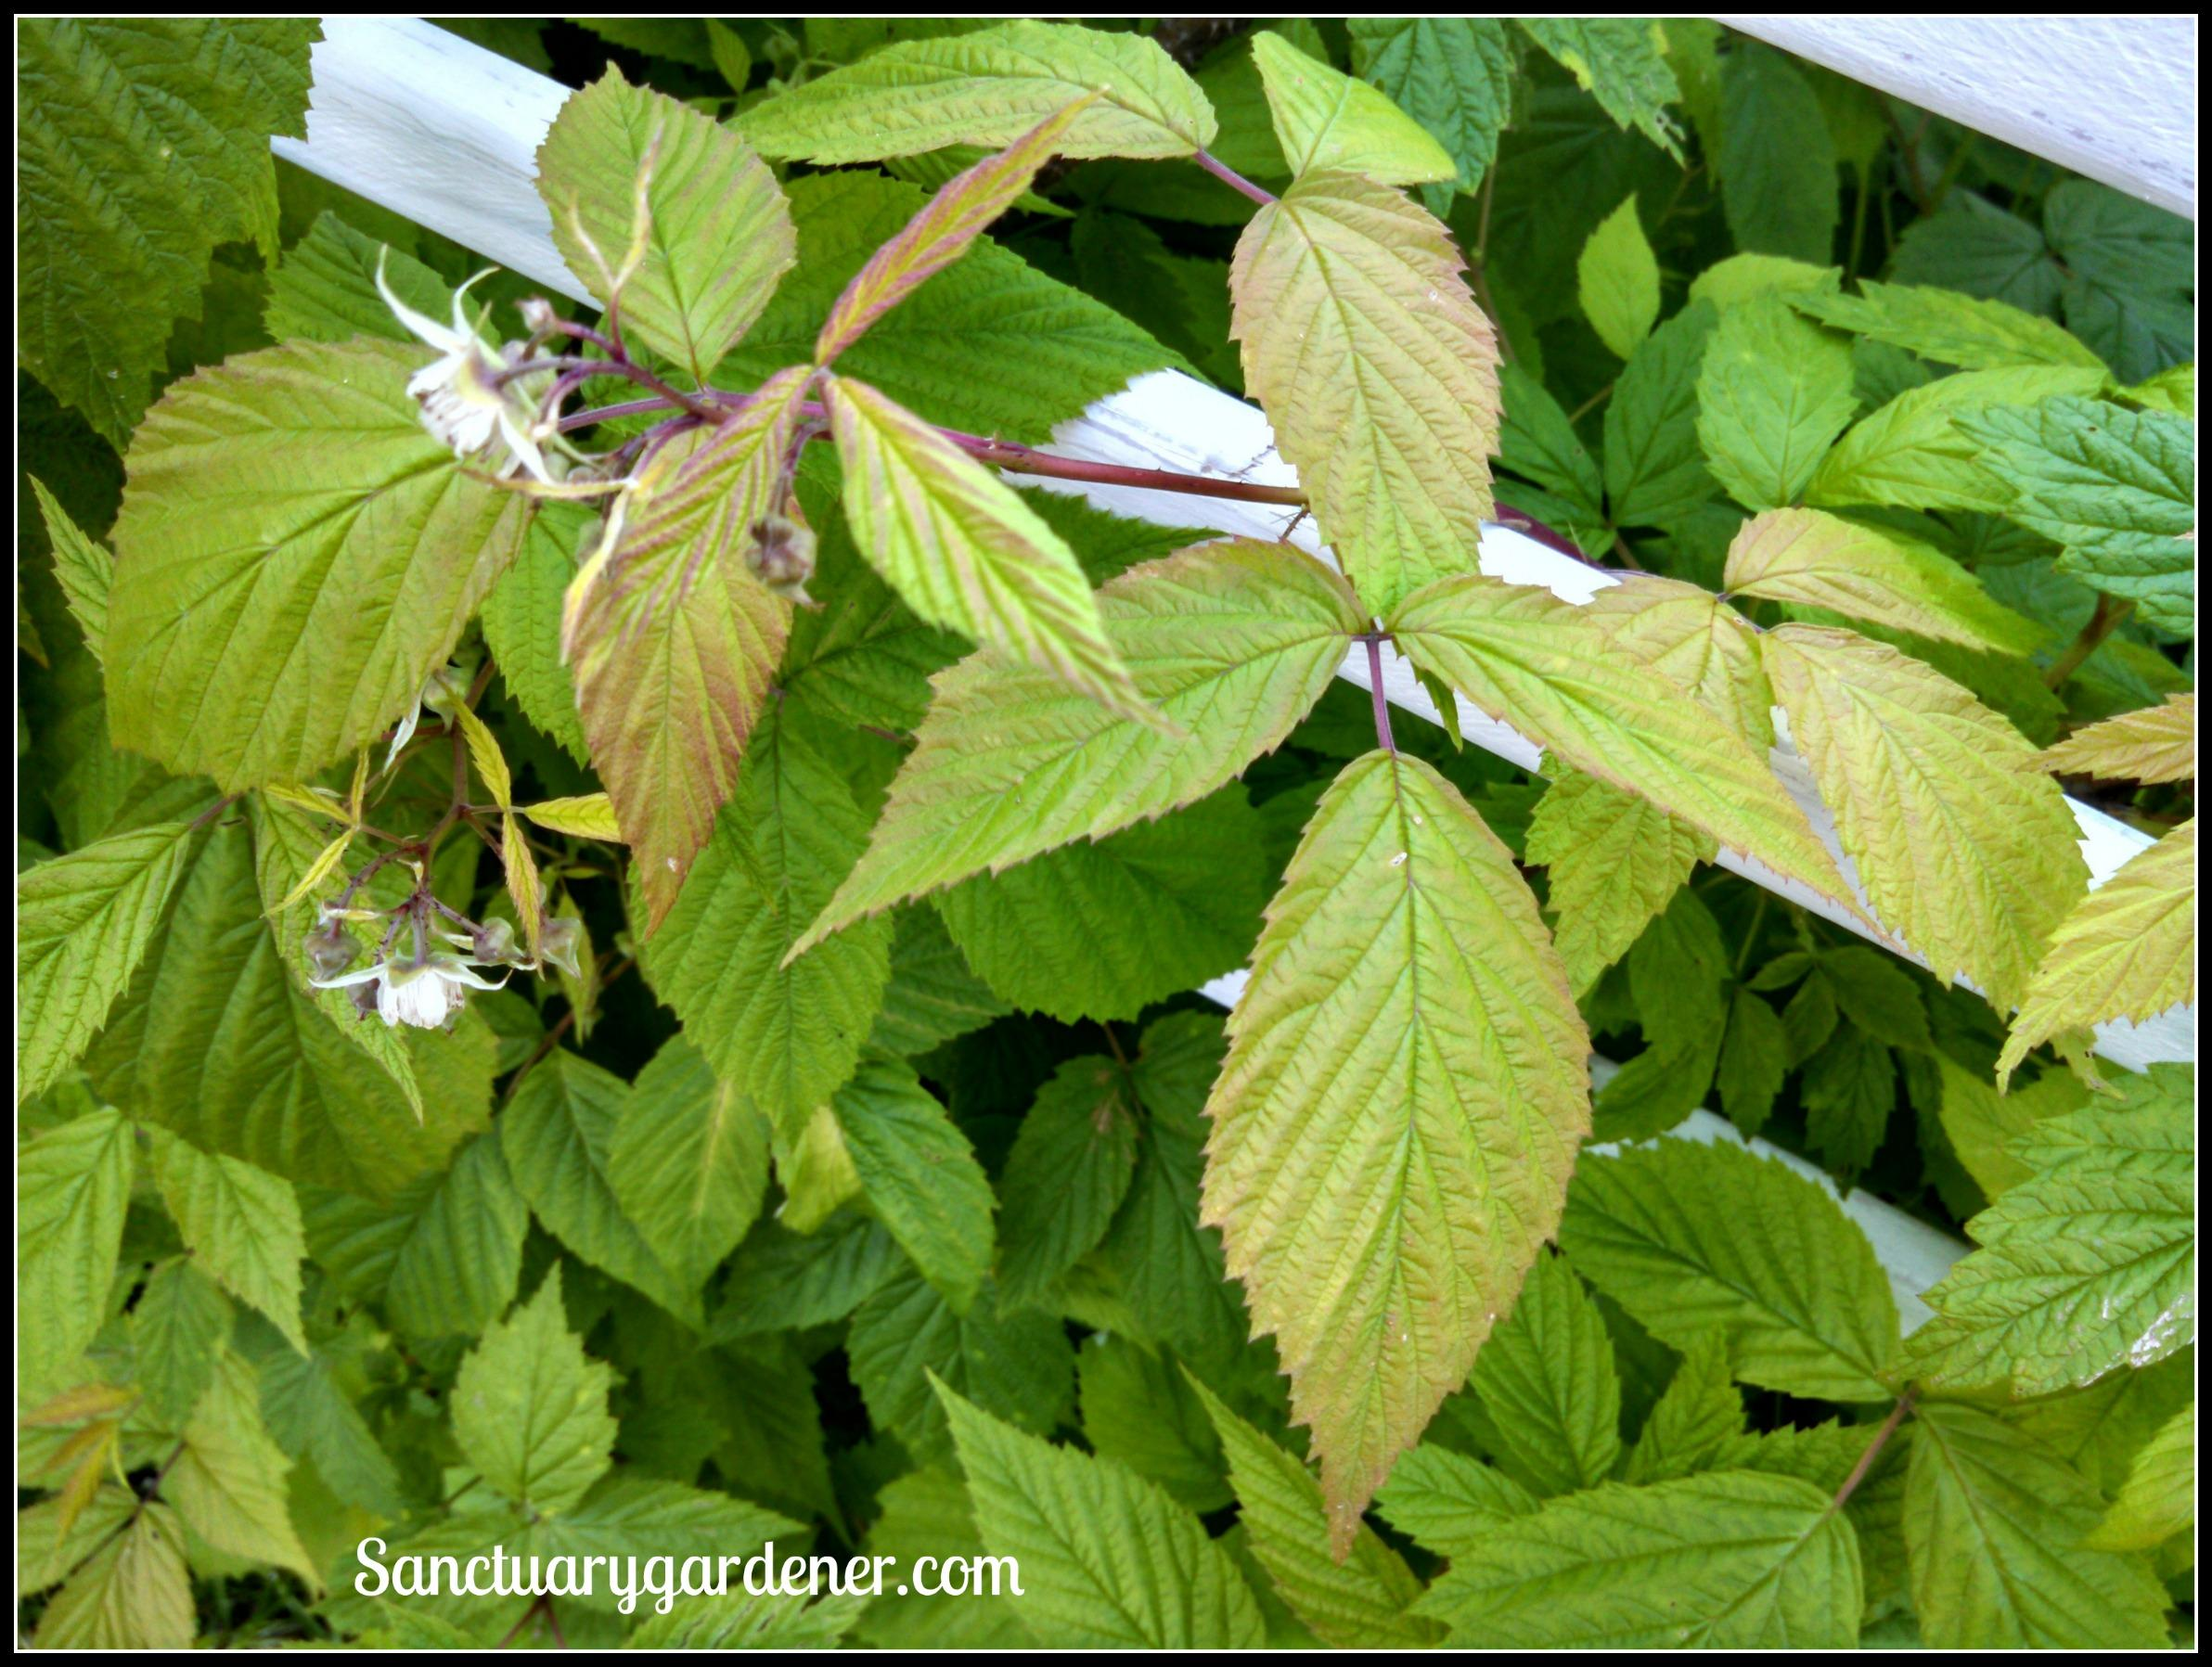Raspberry leaf: (1194, 741, 1587, 1551), (772, 518, 1389, 939), (1389, 569, 1870, 907), (1196, 154, 1510, 665)
